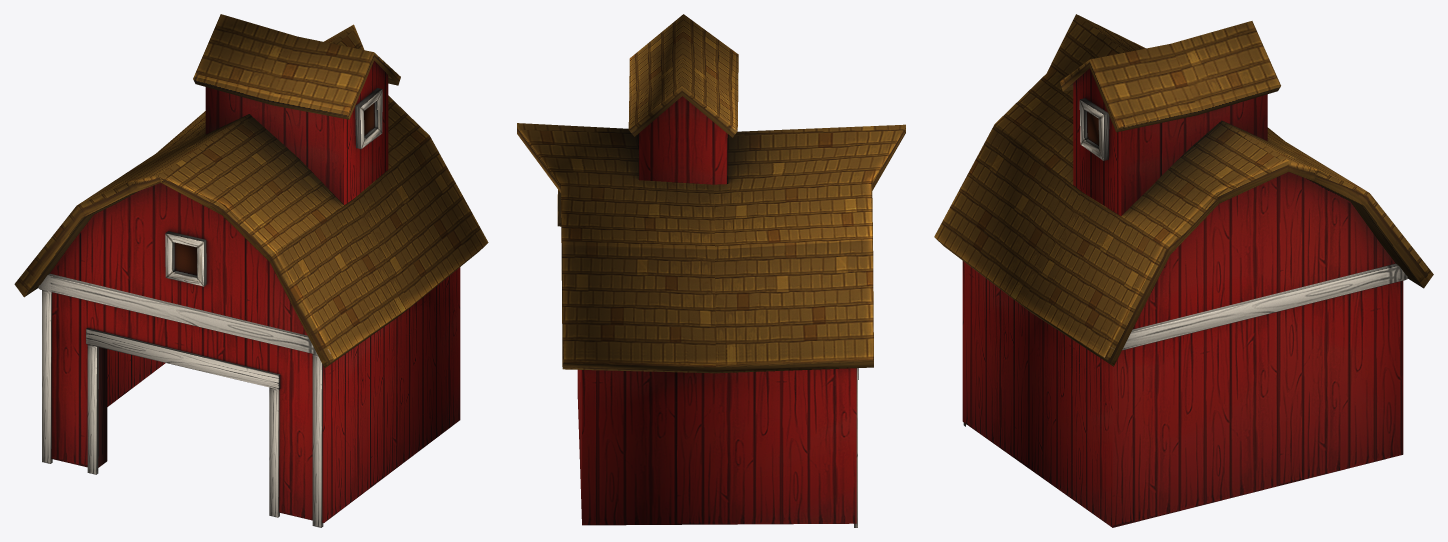
The model's file is barn.obj.
3 views of the same model, side by side, from view 1: azimuth 30°, elevation 25°; view 2: azimuth 150°, elevation 25°; view 3: azimuth 270°, elevation 25° (orthographic). The views are drawn at different scales.
Parts seen in each view (by area): view 1: barn2:farm_barn_farm_barn_mesh; view 2: barn2:farm_barn_farm_barn_mesh; view 3: barn2:farm_barn_farm_barn_mesh.
Boxes of the visible parts, <box> form: barn2:farm_barn_farm_barn_mesh: <box>14,14,488,527</box>; barn2:farm_barn_farm_barn_mesh: <box>517,14,905,527</box>; barn2:farm_barn_farm_barn_mesh: <box>934,14,1433,527</box>.
Bounding box in the file's own units: 55.96 × 54.29 × 58.04.
Materials: 1 (1 with a texture image).
